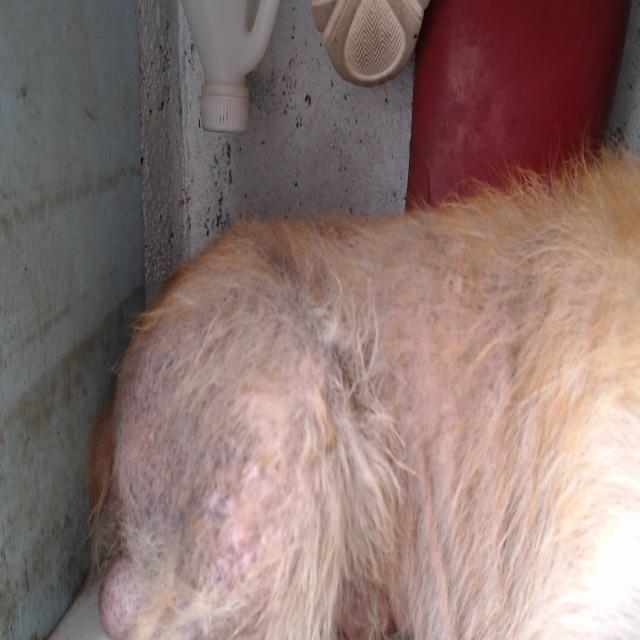demodicosis: (146, 337, 282, 589)
